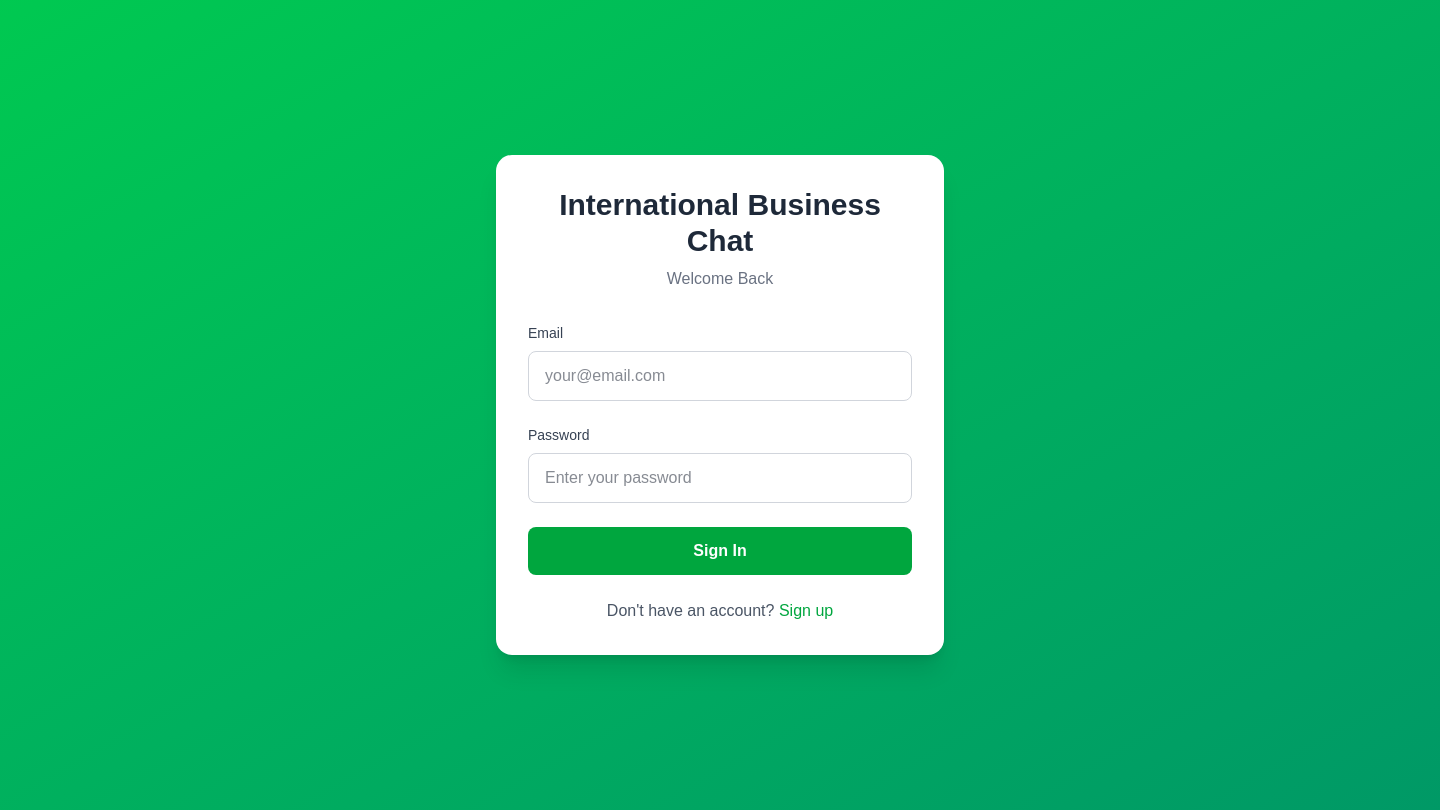
LoginPage › shows error on failed login
The image size is (1440, 810).
Step 1. Type "wrong@example.com" into the field with placeholder "your@email.com" → (720, 376), box [528,351,912,401]
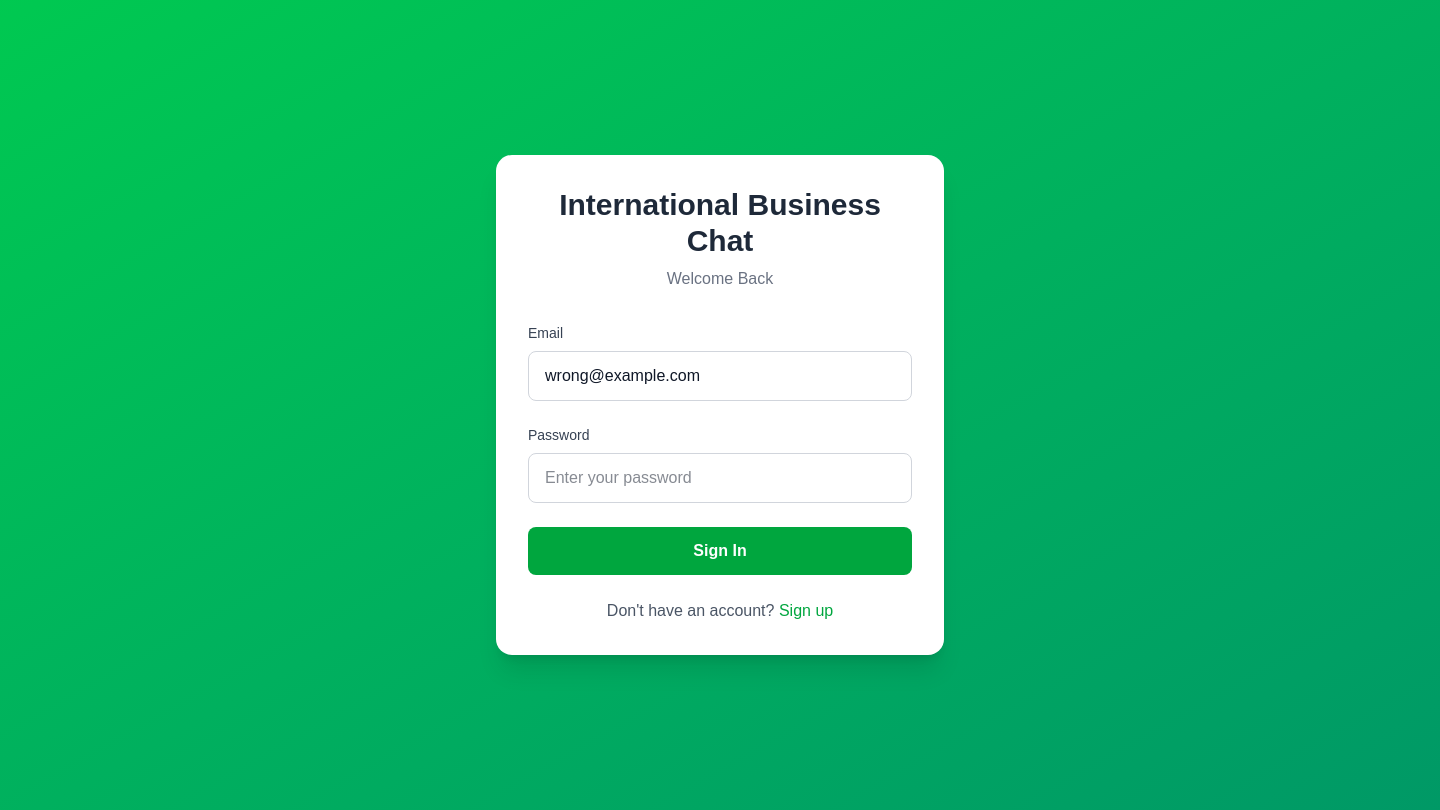
Step 2. Type "wrongpassword" into the password field with placeholder "Enter your password" → (720, 478), box [528,453,912,503]
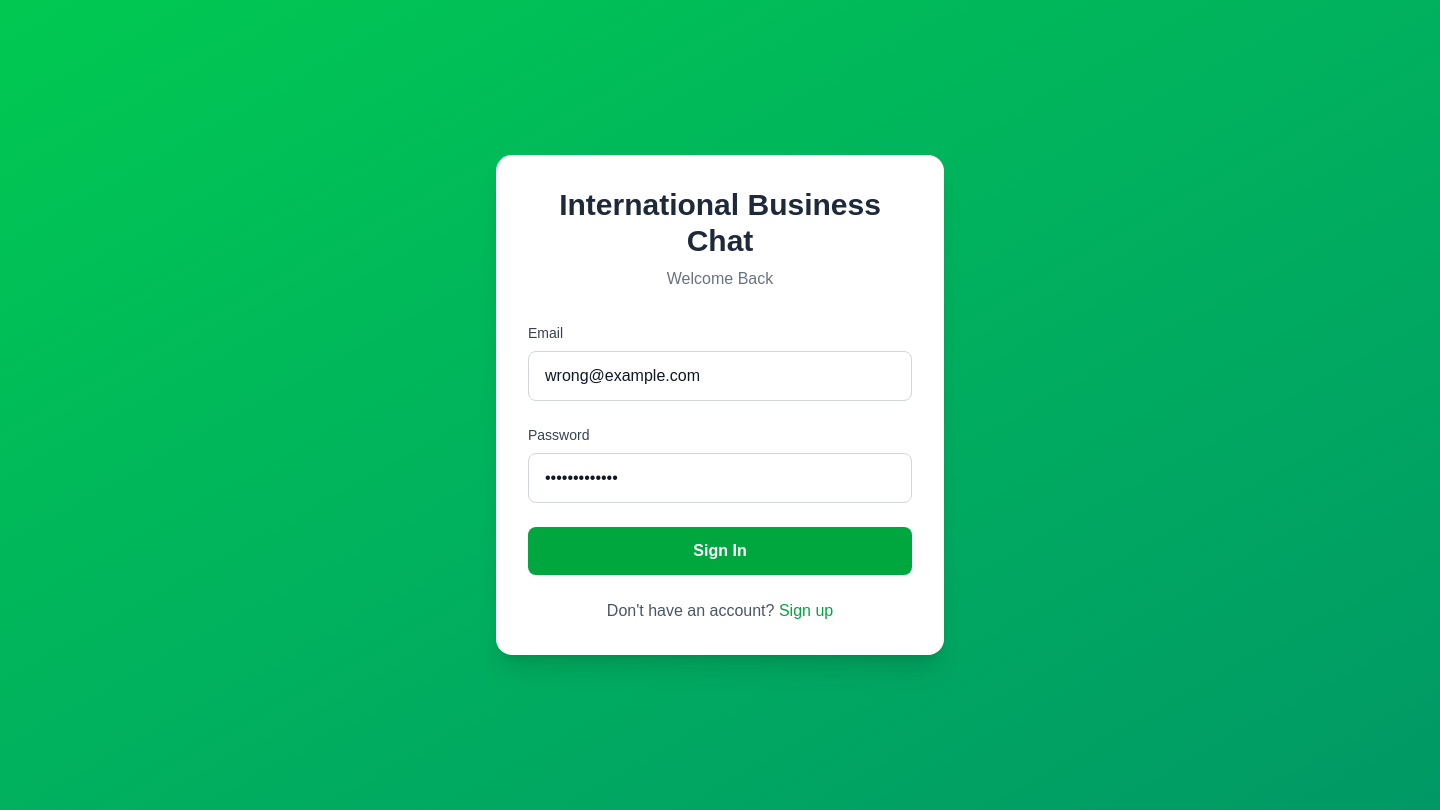
Step 3. Click the button "Sign In" → (720, 551), box [528,527,912,575]
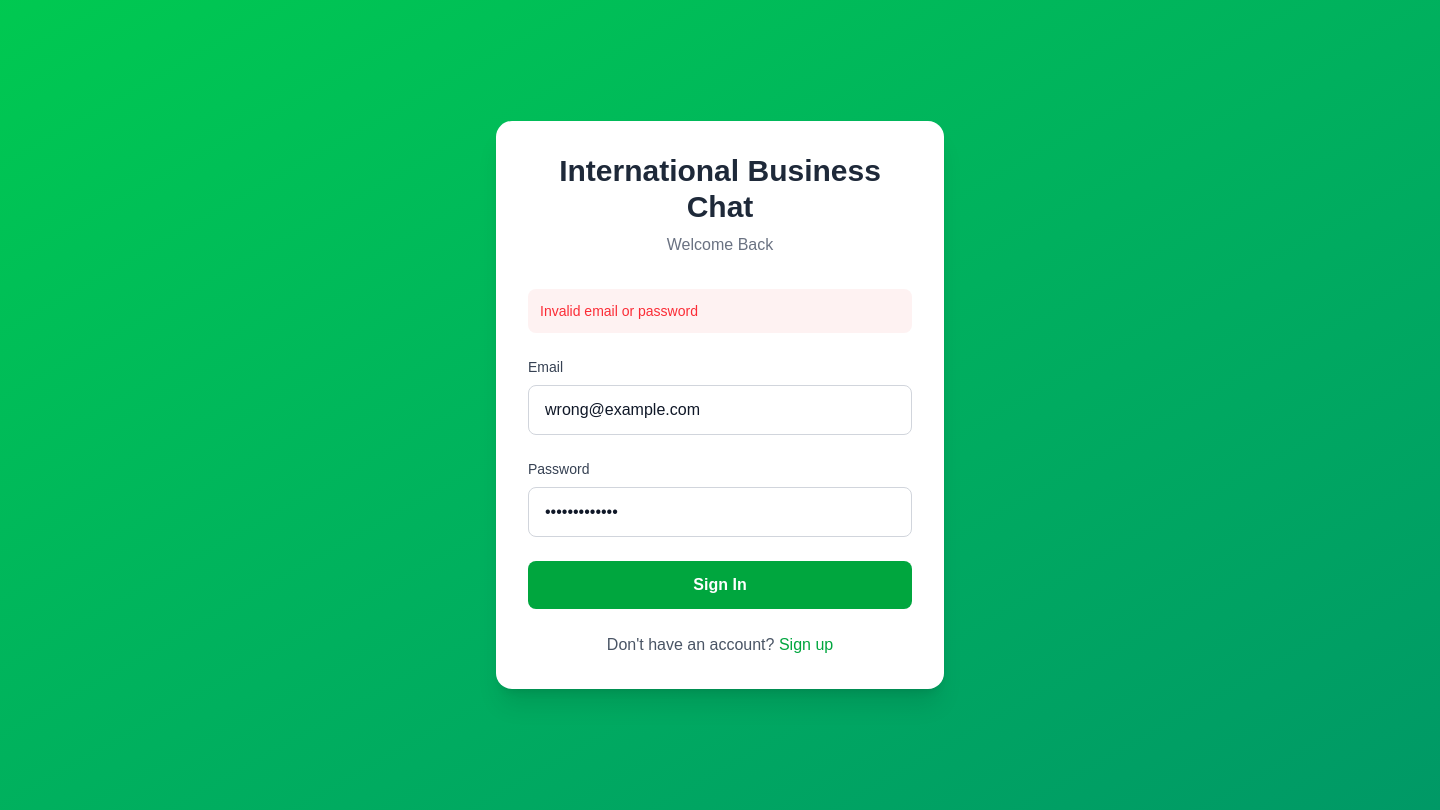
Expected: the text "Invalid email or password" is shown, [528,289,912,333]
